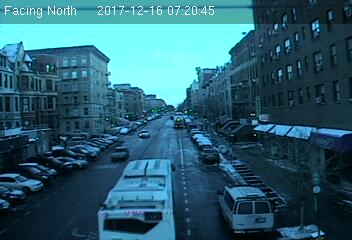bus: (95, 159, 175, 240)
car: (202, 149, 219, 161), (110, 147, 126, 159), (138, 130, 148, 137)
police: (217, 180, 277, 235)
